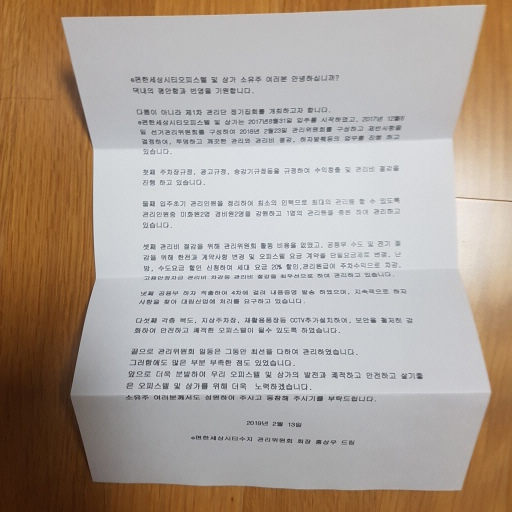Paper_3: (50, 5, 495, 500)
